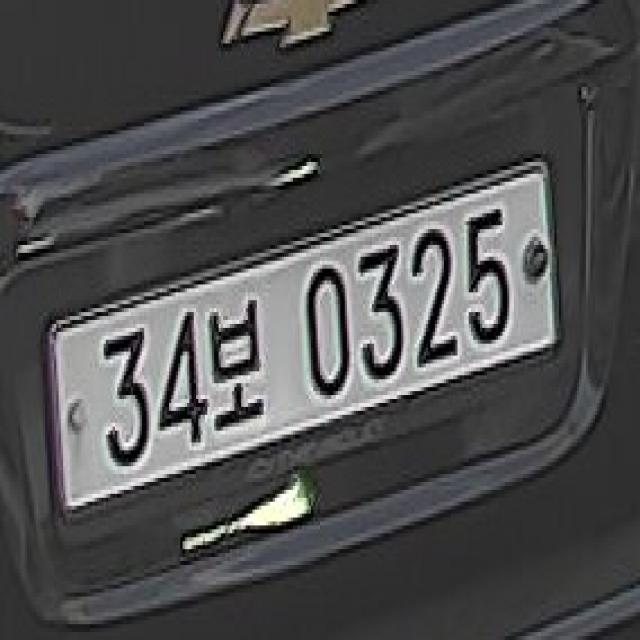0: (300, 261, 354, 399)
2: (410, 226, 458, 372)
3: (97, 324, 153, 466), (354, 241, 406, 383)
4: (156, 308, 210, 447)
5: (464, 202, 510, 348)
bo: (207, 296, 264, 435)
license_plate: (45, 158, 561, 518)
